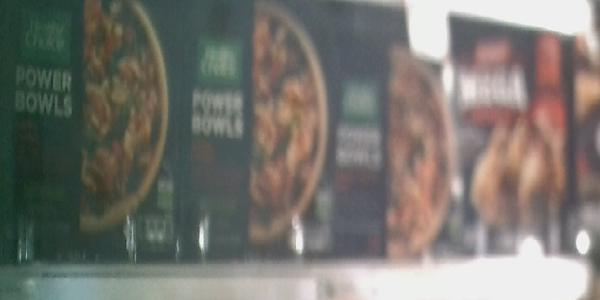pizza1: (4, 1, 176, 266), (177, 1, 340, 259), (460, 22, 578, 259), (337, 48, 460, 261)
